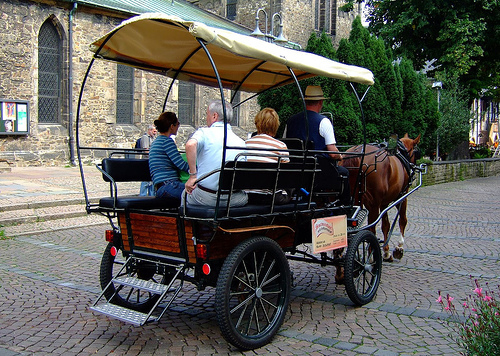horse: (332, 130, 423, 286)
